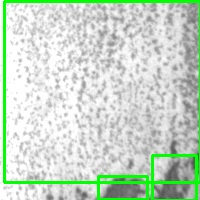patches: (152, 155, 196, 200), (98, 176, 147, 199)
pitted_surface: (4, 1, 200, 182)
